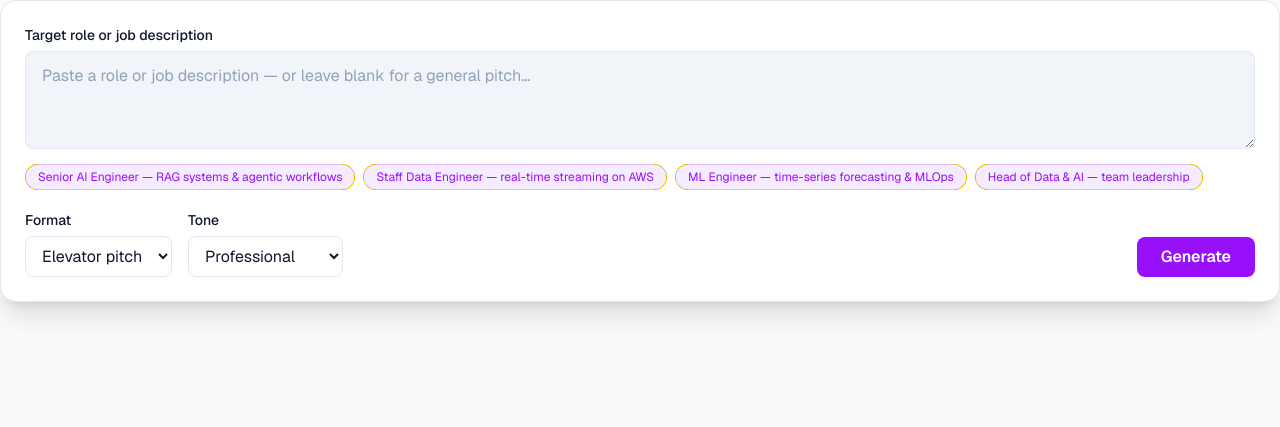
Scenario: ContentGenerator (streaming) › shows an error when the backend returns an error
Click the button "Generate" at {"x": 1196, "y": 257}, box [1137, 237, 1255, 277]
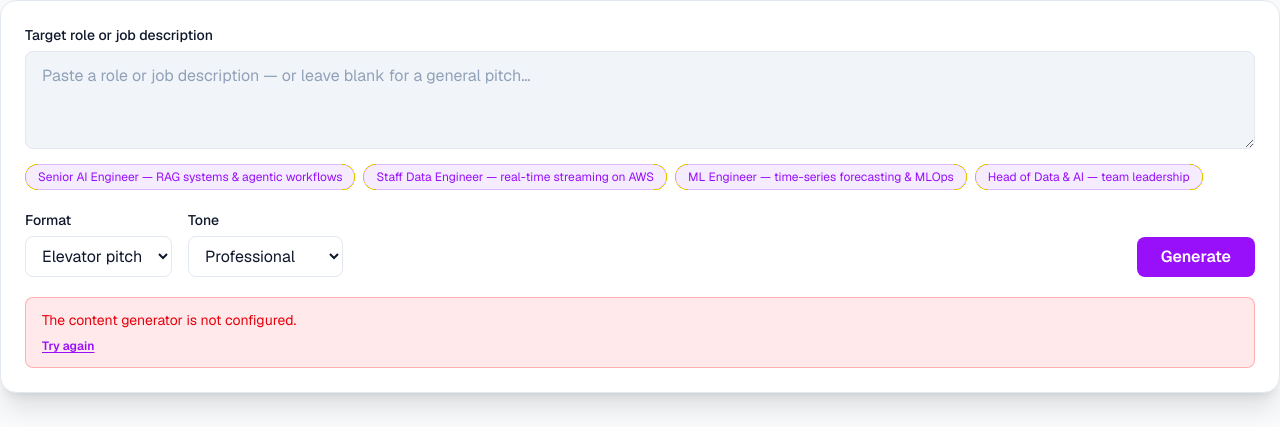
Check: the text "The content generator is not configured." is shown, box [42, 311, 296, 329]
